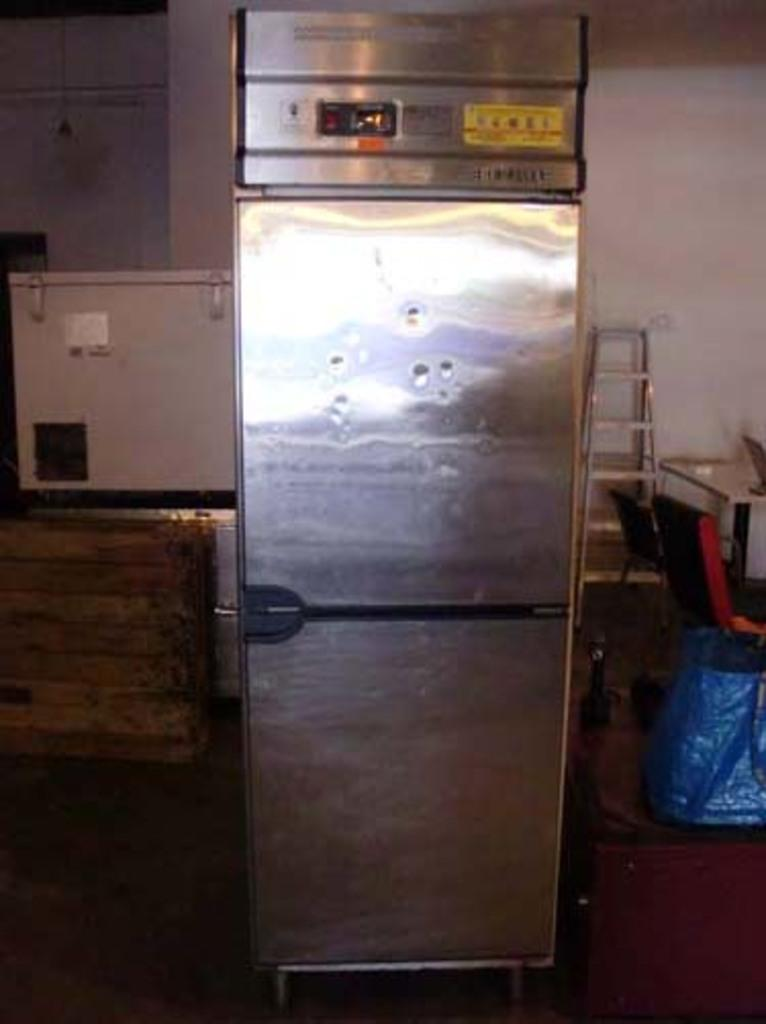handle: (249, 609, 304, 653), (244, 573, 305, 610)
